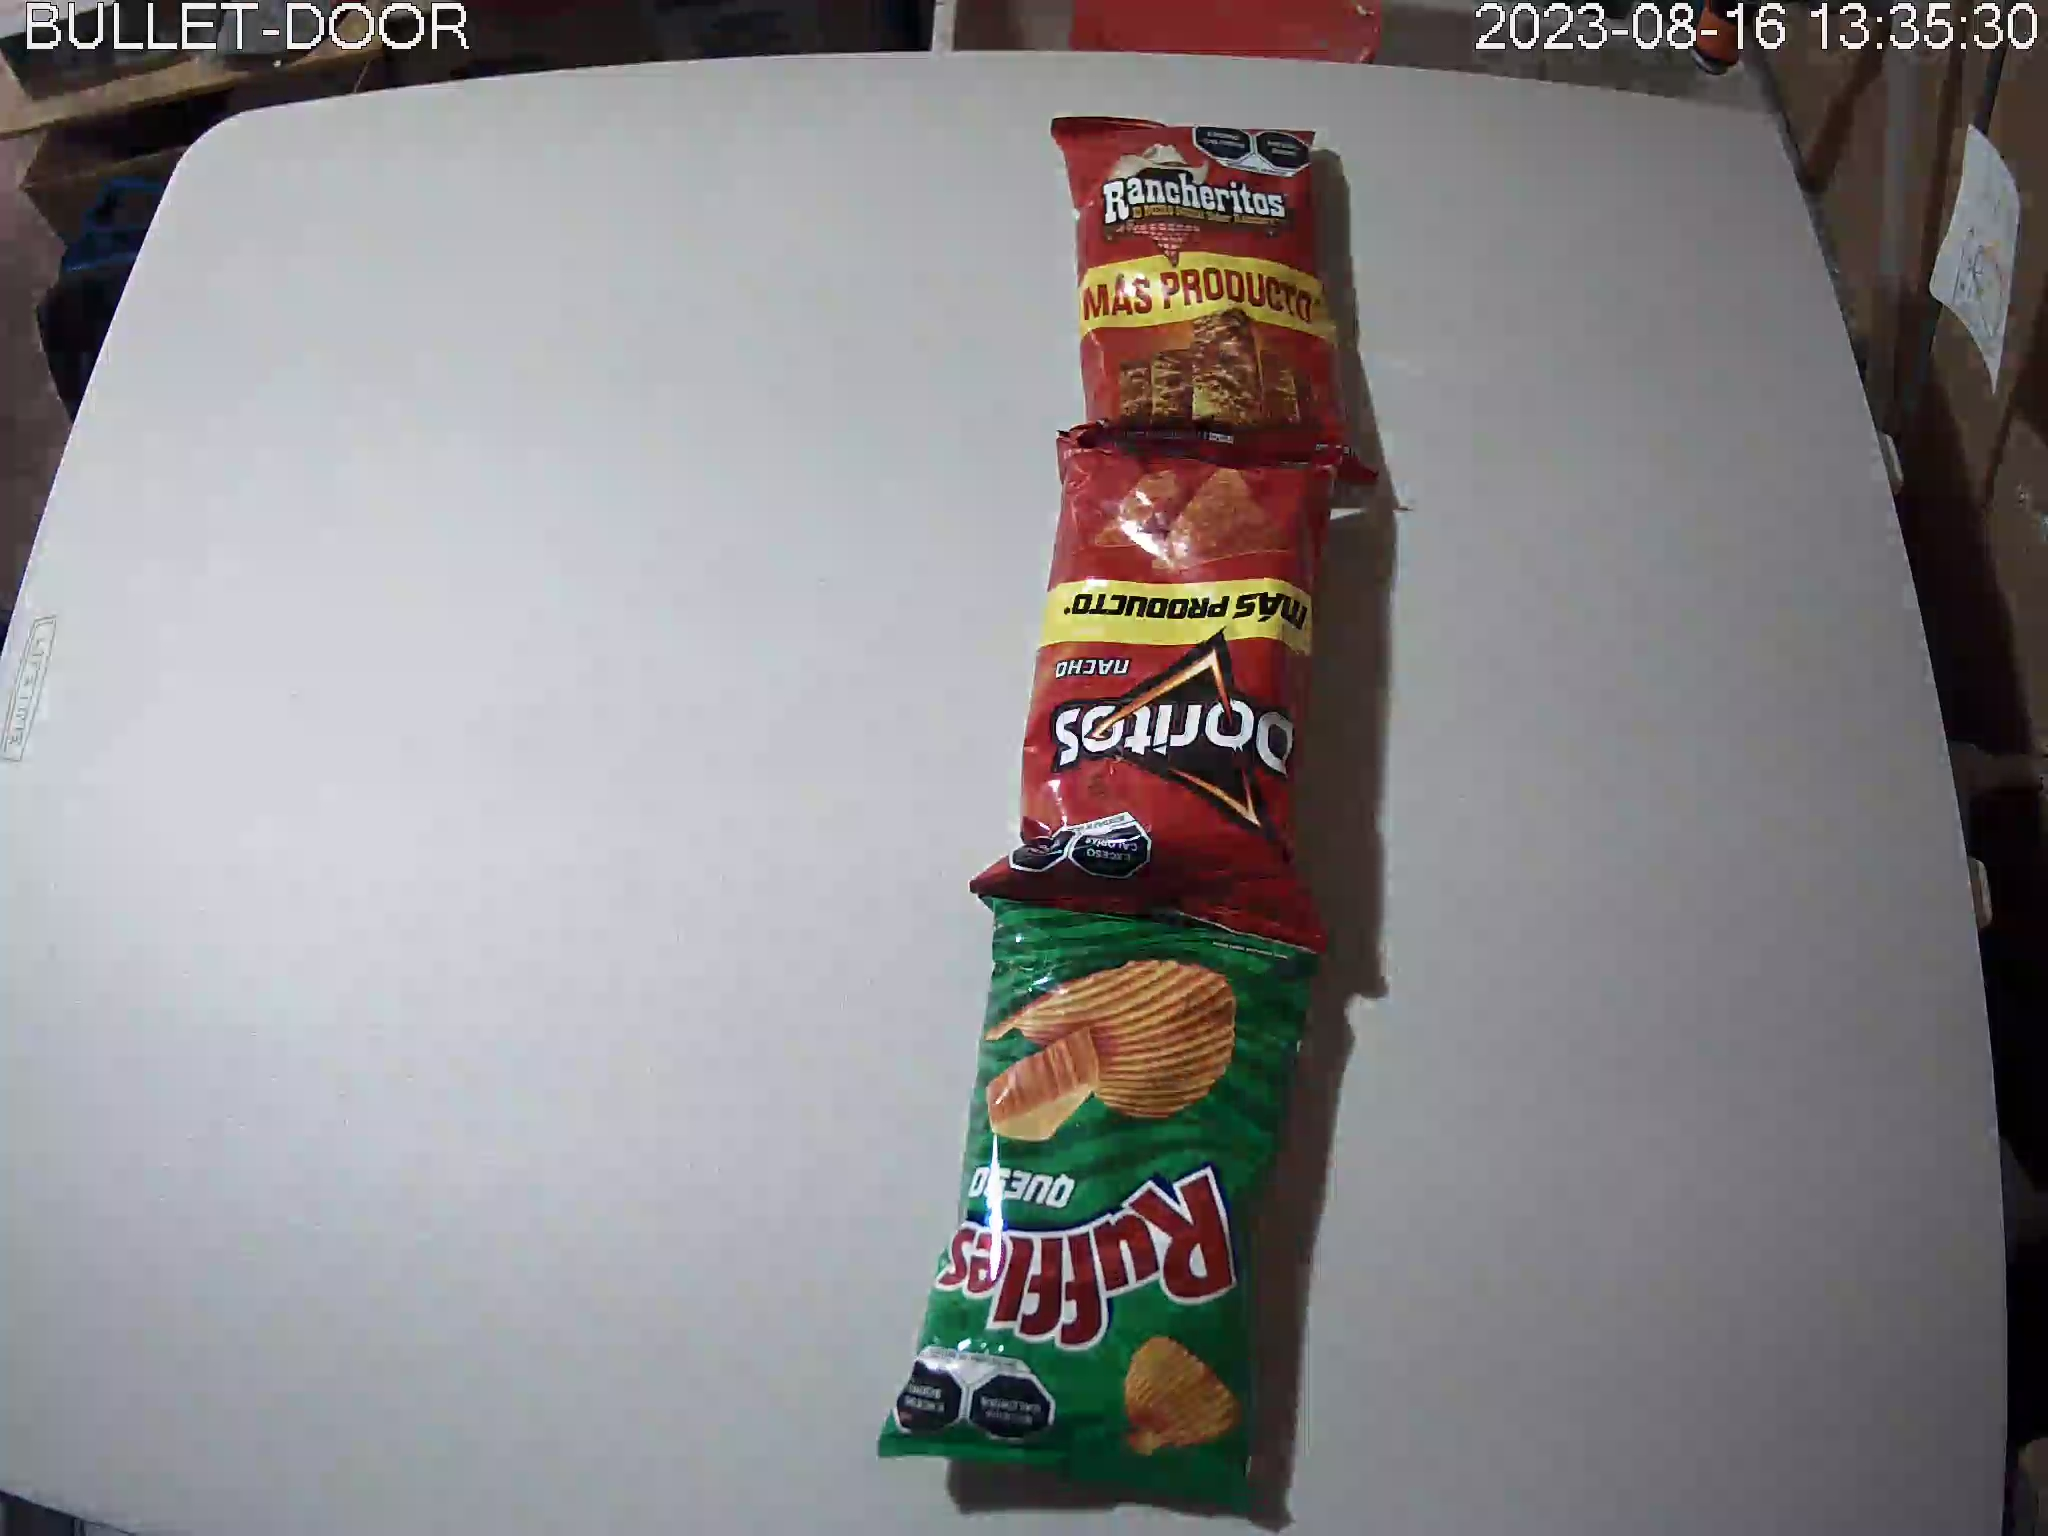DoritosN_61_F: (971, 437, 1347, 955)
Rancheritos_58_F: (1050, 116, 1380, 490)
RufflesQ_48_F: (879, 892, 1321, 1521)
